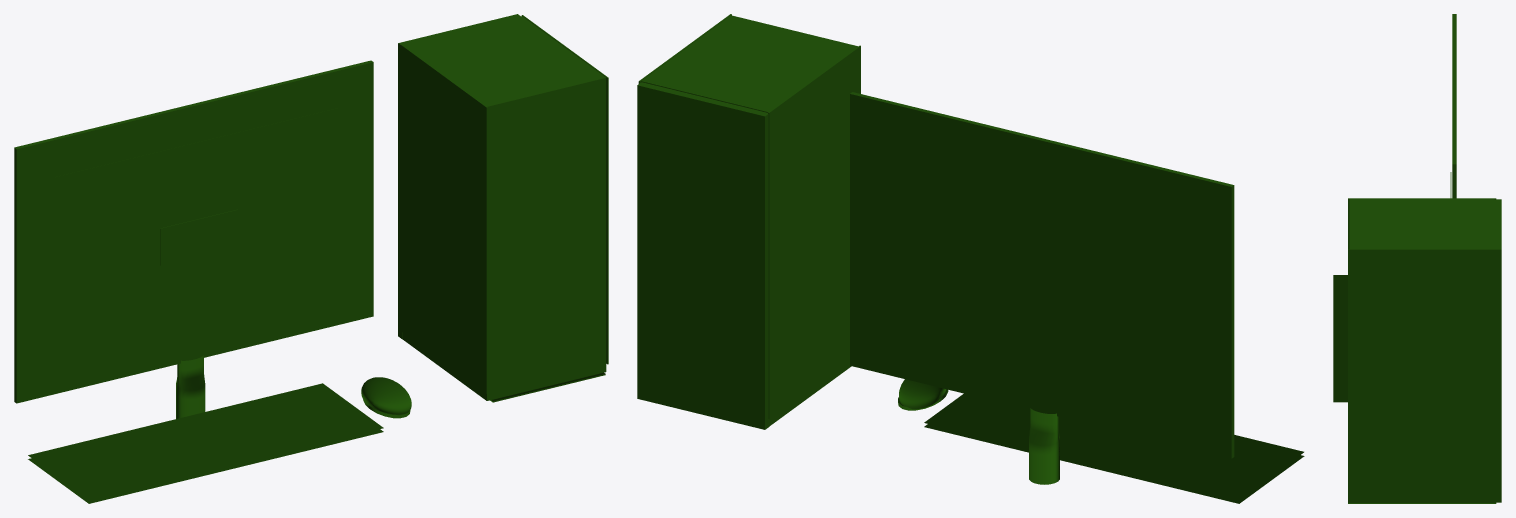
Rendered from PC_Attached2.FBX.
The picture shows the model from 3 angles, left to right: view 1: azimuth 30°, elevation 25°; view 2: azimuth 150°, elevation 25°; view 3: azimuth 270°, elevation 25°; orthographic projection. The views are drawn at different scales.
Visible parts, largest first — view 1: PC; view 2: PC; view 3: PC.
Boxes of the visible parts, left/top/right/bottom form: PC: left=14, top=14, right=608, bottom=503; PC: left=637, top=14, right=1304, bottom=503; PC: left=1333, top=14, right=1501, bottom=503.
Bounding box in the file's own units: 1345 × 763 × 429.
